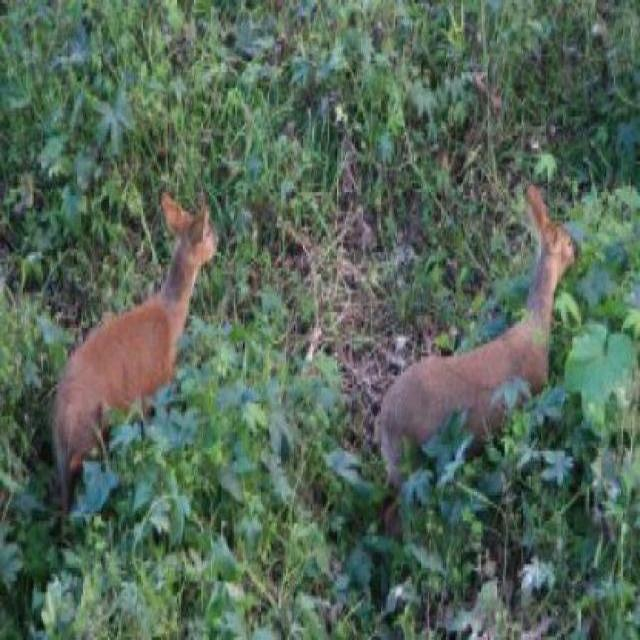deer: (364, 178, 580, 529), (43, 177, 228, 554)
